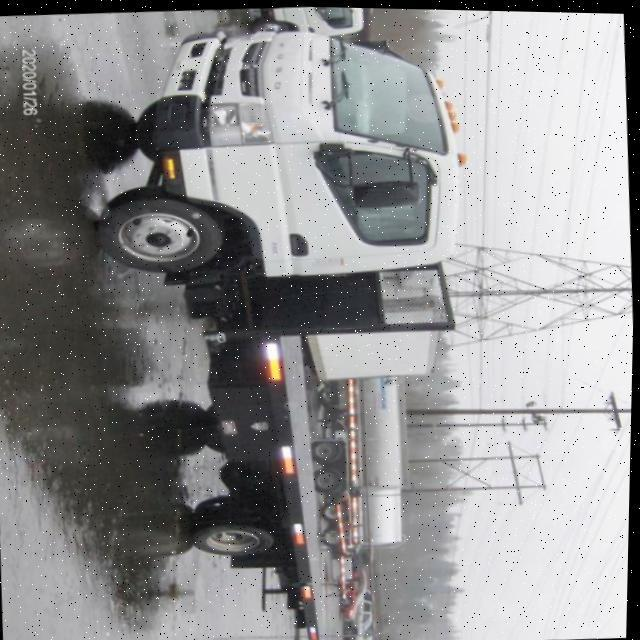truck: (80, 17, 488, 640)
